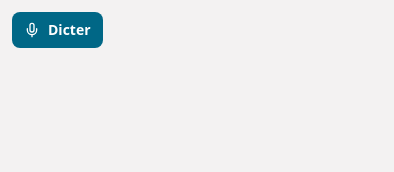
Scenario: DictationButton › clic, parole, Échap : la phrase part, le texte revient, le micro est coupé
Later steps or results of the test are not shown.
Click the button "Dicter". click: (57, 30)
box: [12,12,102,48]
Wait 500 ms
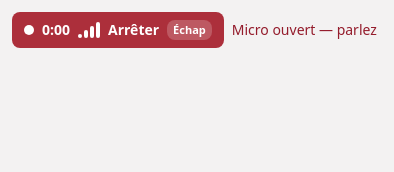
Now the text "Micro ouvert — parlez" is shown, box [232,20,377,40]
